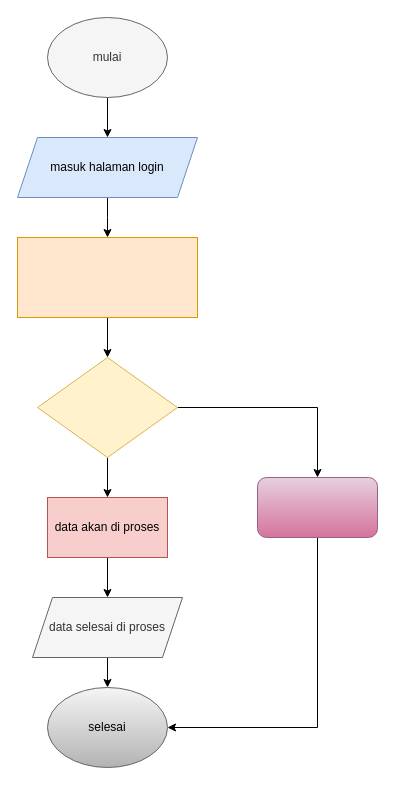
Some shapes in this 395 by 785 pixel diagram are drawn without their labels. The shapes that lost their labels are listed below. From the top down, each one's centre as x and y in pixels, then its label:
At (107,277): "menginput data dan mengubah data yang ada di halaman tersebut".
At (107,407): "jika data di ubah".
At (317,507): "gagal / batal".
